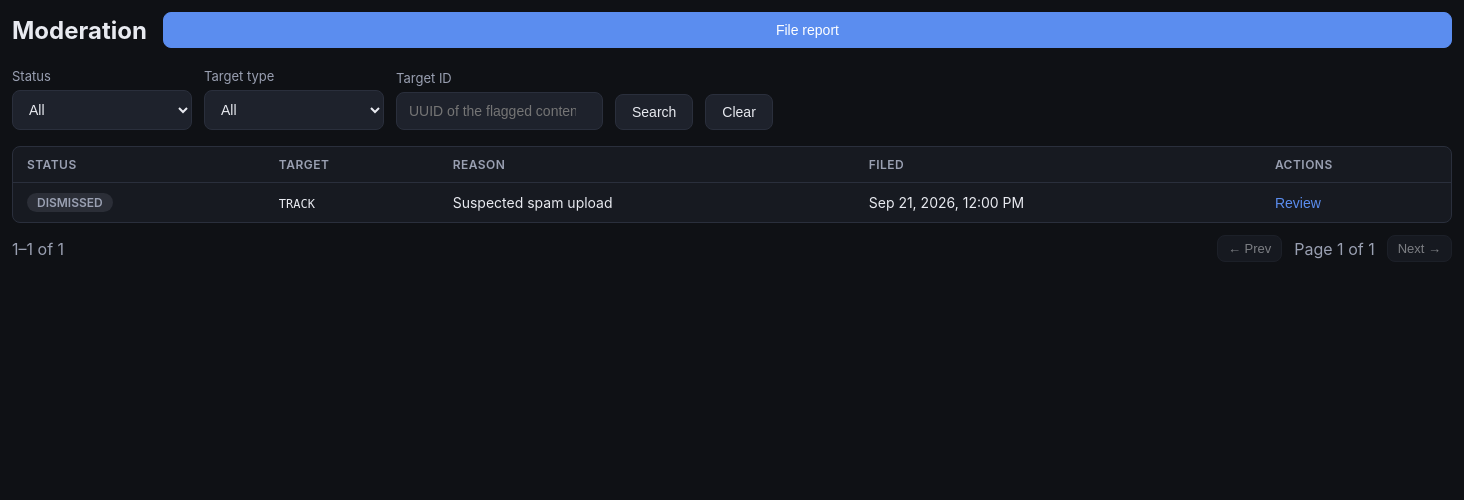
Test: ModerationPage › shows terminal-state messaging for closed reports
Expected: the text "Suspected spam upload" is shown, 439,182 -> 855,222
What coordinates should you click on to do the following:
click the button with aria-label "Review report report-9"
I would click on:
 (1298, 203)
Its box is 1275,195 -> 1321,211.
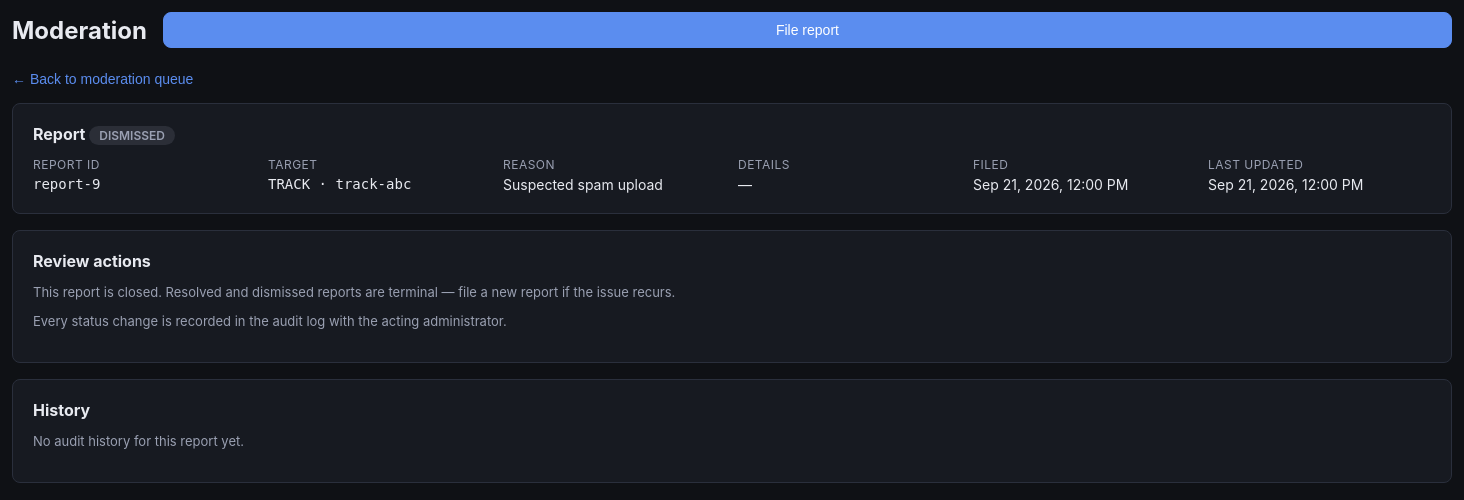
Result: the text "This report is closed" is shown at 33,284 -> 675,300
